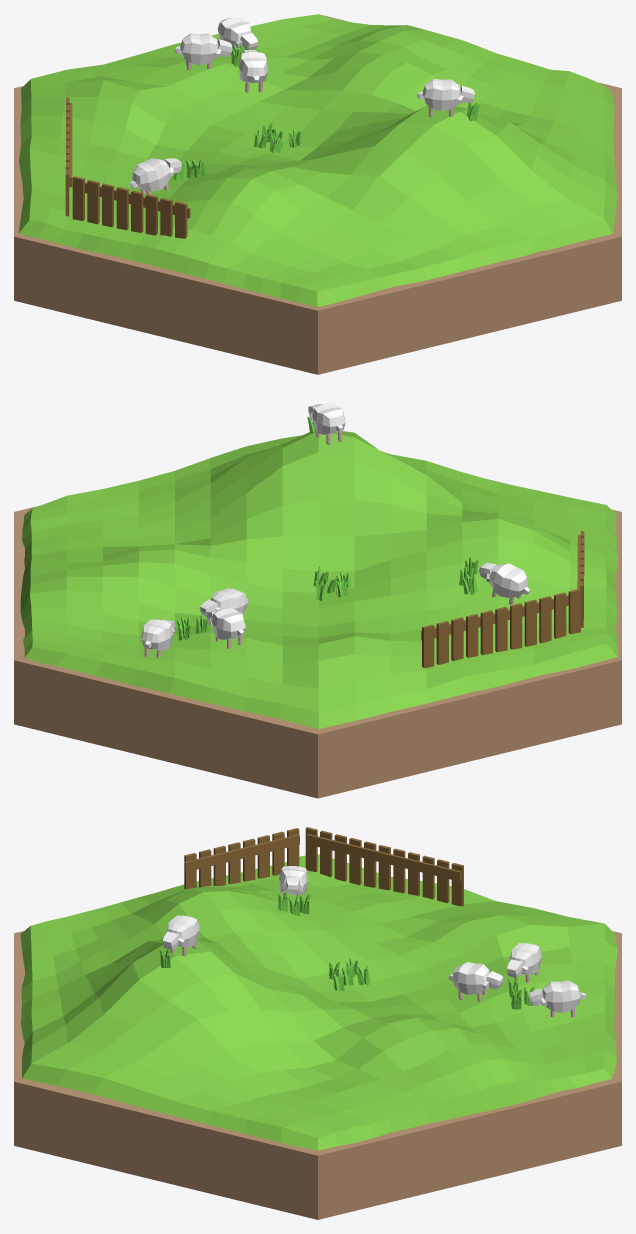
The model's file is grasstile.fbx.
The picture shows the model from 3 angles, top to bottom: view 1: azimuth 30°, elevation 25°; view 2: azimuth 150°, elevation 25°; view 3: azimuth 270°, elevation 25°; orthographic projection.
Parts seen in each view (by area): view 1: Plane.002, base.004, Cube.012, sheep.001, sheep.003, sheep.004, sheep, sheep.002, Cube.013; view 2: Plane.002, base.004, Cube.013, sheep.004, sheep.001, sheep.003, sheep, sheep.002, Cube.012; view 3: Plane.002, base.004, Cube.013, Cube.012, sheep, sheep.002, sheep.003, sheep.001, sheep.004.
Boxes of the visible parts, <box> form: Plane.002: <box>18,14,617,307</box>; base.004: <box>14,14,621,374</box>; Cube.012: <box>72,176,190,238</box>; sheep.001: <box>175,33,232,65</box>; sheep.003: <box>417,79,474,110</box>; sheep.004: <box>129,158,181,191</box>; sheep: <box>217,17,257,49</box>; sheep.002: <box>239,49,267,82</box>; Cube.013: <box>65,97,72,216</box>; Plane.002: <box>20,431,618,729</box>; base.004: <box>14,480,621,798</box>; Cube.013: <box>421,589,580,668</box>; sheep.004: <box>479,563,529,597</box>; sheep.001: <box>206,608,245,639</box>; sheep.003: <box>308,403,345,434</box>; sheep: <box>141,619,174,650</box>; sheep.002: <box>200,588,248,616</box>; Cube.012: <box>577,531,584,627</box>; Plane.002: <box>20,854,617,1150</box>; base.004: <box>14,931,621,1219</box>; Cube.013: <box>305,827,463,906</box>; Cube.012: <box>184,828,299,889</box>; sheep: <box>528,980,585,1012</box>; sheep.002: <box>448,962,503,994</box>; sheep.003: <box>163,915,199,949</box>; sheep.001: <box>507,943,541,977</box>; sheep.004: <box>279,866,308,894</box>.
Size of the model in its own units: 1364 by 385 by 1181.
